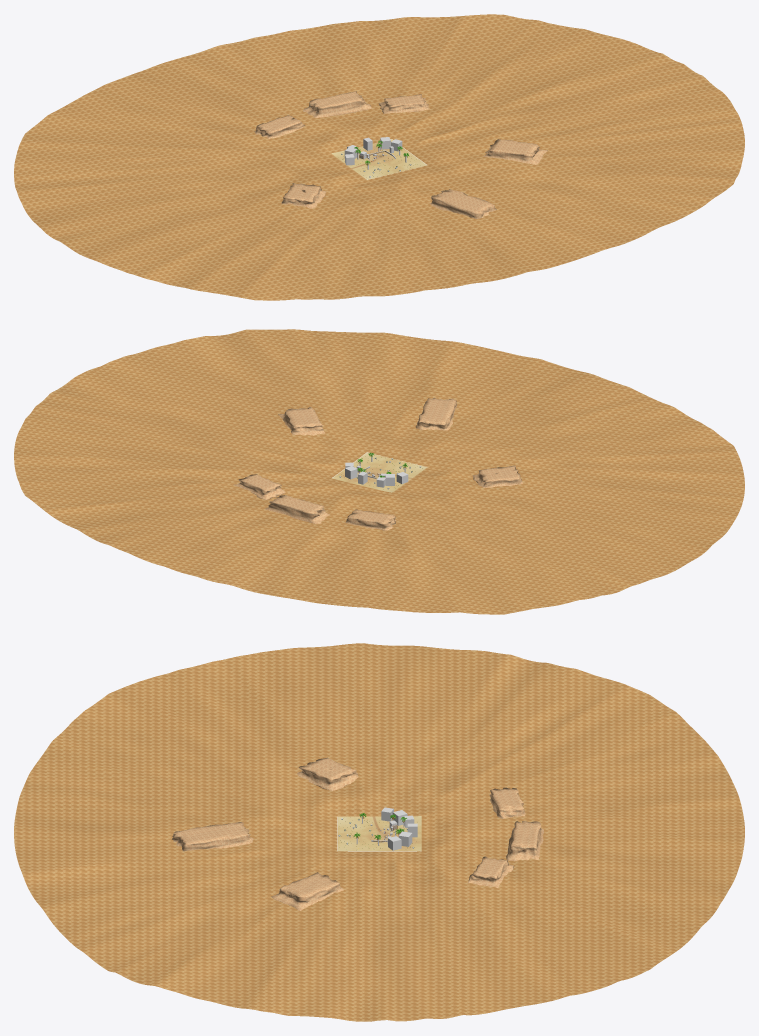
The model's file is bakery-yard.glb.
The picture shows the model from 3 angles, top to bottom: view 1: azimuth 30°, elevation 25°; view 2: azimuth 150°, elevation 25°; view 3: azimuth 270°, elevation 25°; orthographic projection. The views are drawn at different scales.
Parts seen in each view (by area): view 1: ground_far, cliffs, ground; view 2: ground_far, cliffs, ground; view 3: ground_far, cliffs, ground.
Part boxes in pixels (x1,y1,x2,y2): ground_far: (14, 14, 744, 300); cliffs: (254, 91, 547, 218); ground: (331, 139, 426, 179); ground_far: (14, 329, 744, 614); cliffs: (233, 398, 522, 530); ground: (332, 452, 426, 492); ground_far: (14, 643, 744, 1021); cliffs: (172, 757, 543, 910); ground: (337, 816, 421, 851).
Size of the model in its own units: 992 by 16.91 by 814.
30 materials, 25 textured.
